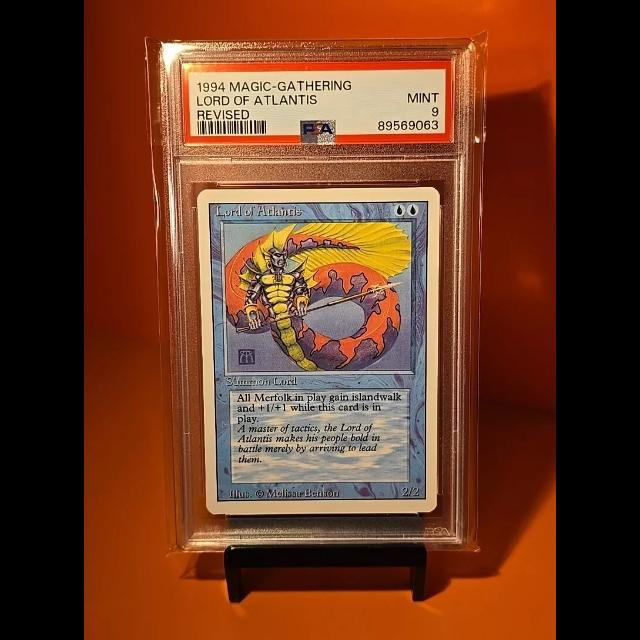card: (197, 186, 441, 515)
psa_label: (180, 59, 455, 146)
psa_slab: (160, 38, 477, 552)
